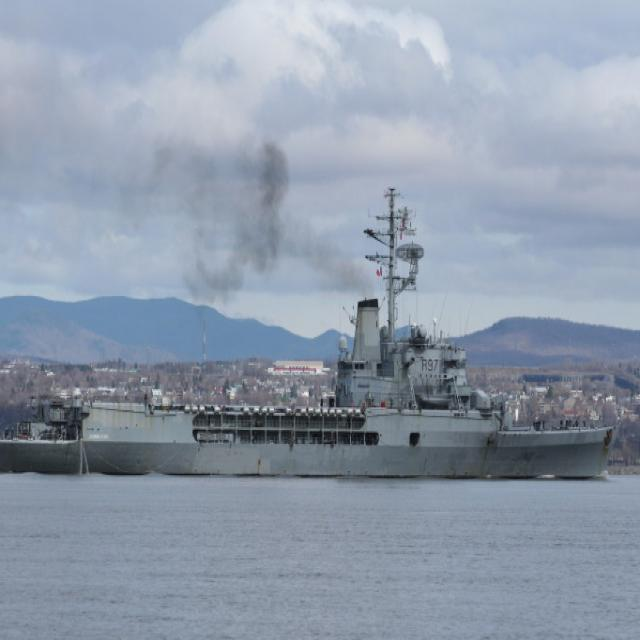Portanaves: (1, 181, 621, 485)
